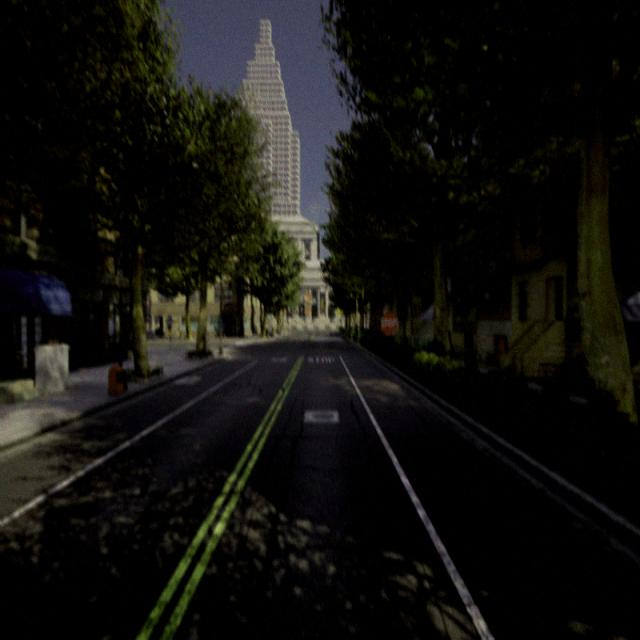stop sign: (378, 307, 400, 337)
